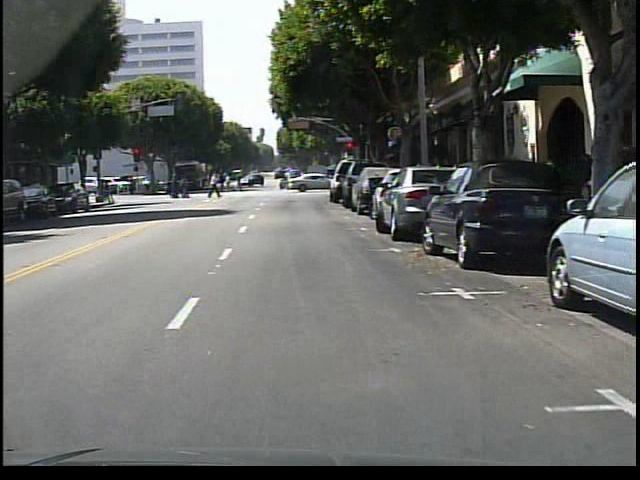person: (203, 169, 223, 199)
